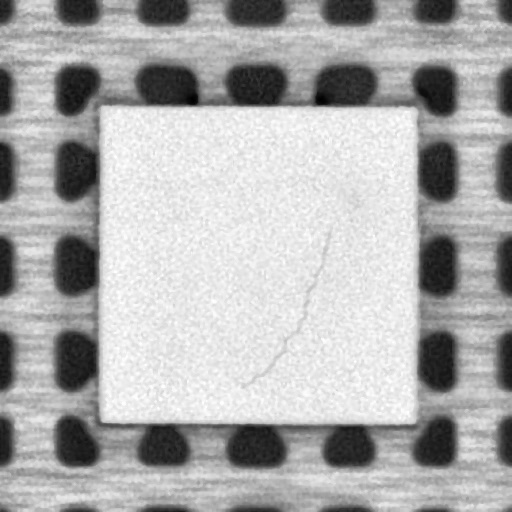DIE_CRACK: (238, 224, 328, 388)
